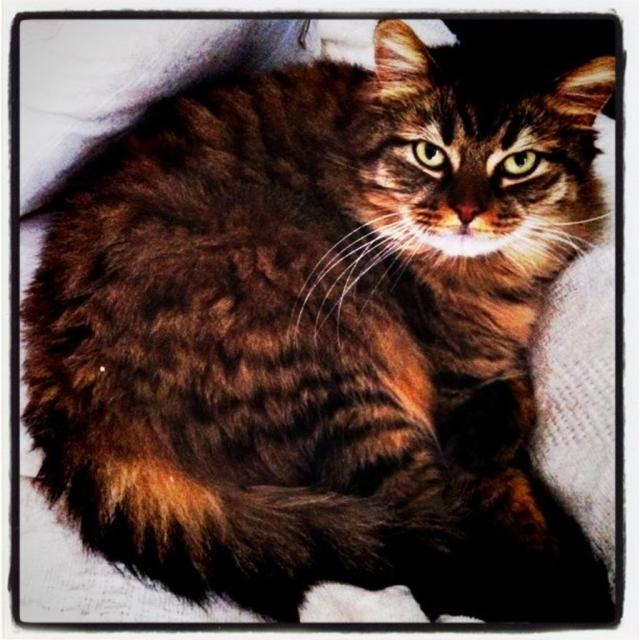Cat: (12, 18, 624, 626)
